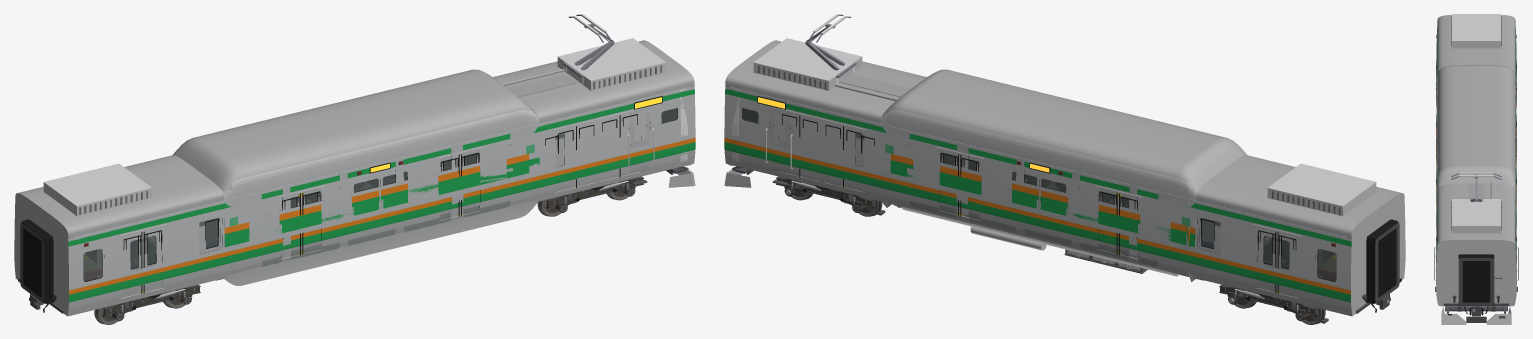
3 renders of one model, left to right at view 1: azimuth 30°, elevation 25°; view 2: azimuth 150°, elevation 25°; view 3: azimuth 270°, elevation 25°, orthographic. The views are drawn at different scales.
Parts seen in each view (by area): view 1: e233_green, e233_cab, e233_mid, e233_mid_panto, e233_cab_fine, e233_cab_door2_R_b; view 2: e233_green, e233_cab, e233_mid, e233_mid_panto, e233_cab_fine, e233_cab_door2_L_b, e233_cab_door1_L_b; view 3: e233_green, e233_mid, e233_cab, e233_mid_fine, e233_mid_panto, e233_cab_fine.
Part boxes in pixels (x1,y1,x2,y2): e233_green: (14, 38, 695, 316); e233_cab: (14, 62, 695, 321); e233_mid: (14, 40, 695, 312); e233_mid_panto: (128, 14, 673, 311); e233_cab_fine: (18, 128, 654, 319); e233_cab_door2_R_b: (300, 188, 321, 254); e233_green: (724, 38, 1405, 316); e233_cab: (724, 61, 1405, 323); e233_mid: (724, 40, 1405, 315); e233_mid_panto: (746, 14, 1291, 311); e233_cab_fine: (765, 128, 1401, 319); e233_cab_door2_L_b: (1098, 188, 1119, 254); e233_cab_door1_L_b: (940, 149, 960, 215); e233_green: (1436, 14, 1516, 305); e233_mid: (1436, 15, 1516, 314); e233_cab: (1436, 14, 1516, 324); e233_mid_fine: (1453, 254, 1499, 313); e233_mid_panto: (1451, 172, 1501, 202); e233_cab_fine: (1434, 247, 1518, 291).
Bounding box in the file's own units: 20.08 × 5.17 × 3.1.
Materials: 78 (1 with a texture image).
